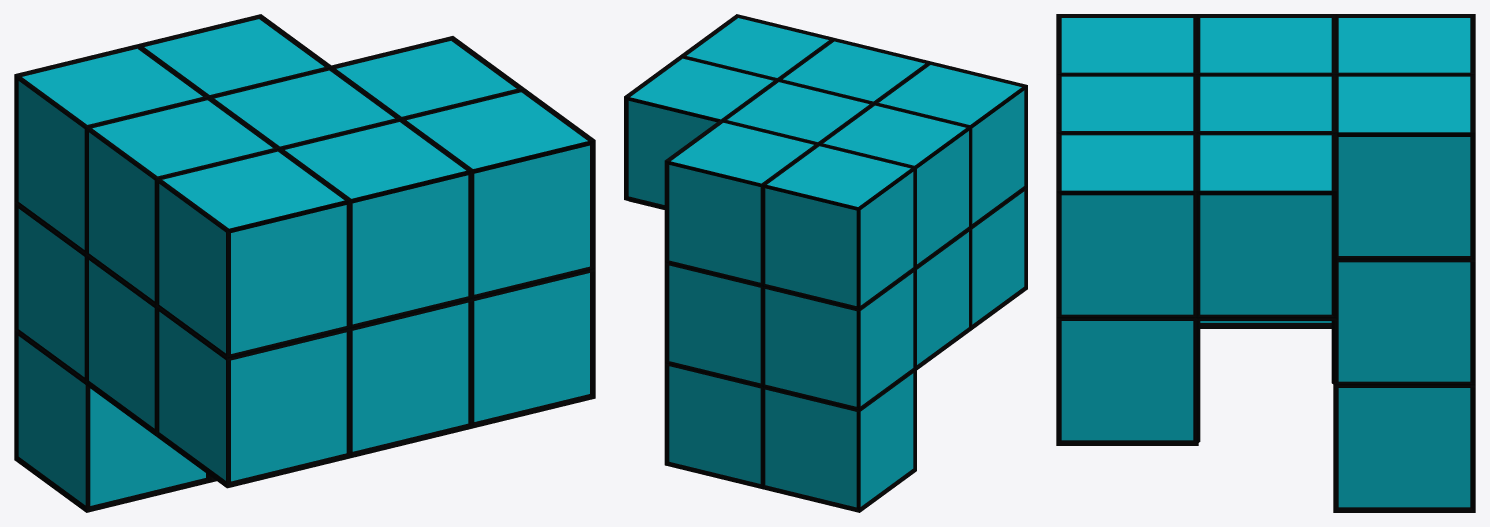
3 views of the same model, side by side, from view 1: azimuth 30°, elevation 25°; view 2: azimuth 150°, elevation 25°; view 3: azimuth 270°, elevation 25° (orthographic). The views are drawn at different scales.
Visible parts, largest first — view 1: a:Mesh; view 2: a:Mesh; view 3: a:Mesh.
Boxes of the visible parts, left/top/right/bottom form: a:Mesh: left=14, top=14, right=595, bottom=512; a:Mesh: left=624, top=14, right=1027, bottom=512; a:Mesh: left=1056, top=14, right=1475, bottom=512.
Size of the model in its own units: 6.06 by 6.06 by 6.06.
